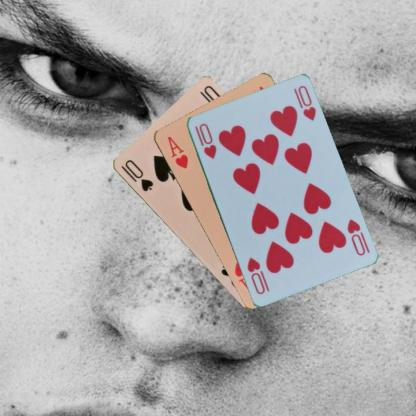10h: (192, 120, 218, 160), (344, 216, 366, 257)
10s: (118, 157, 154, 193)
Ah: (164, 134, 190, 170)
